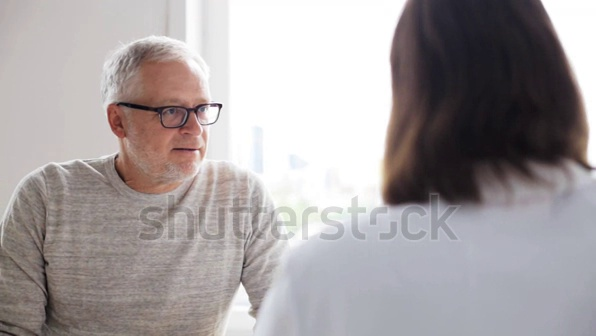No Mask: (100, 37, 224, 185)
